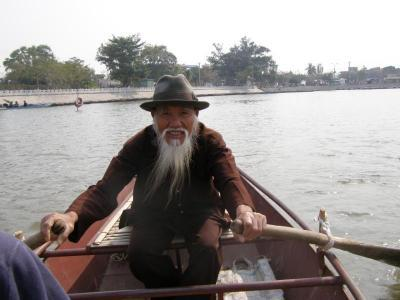person: (40, 75, 267, 300)
